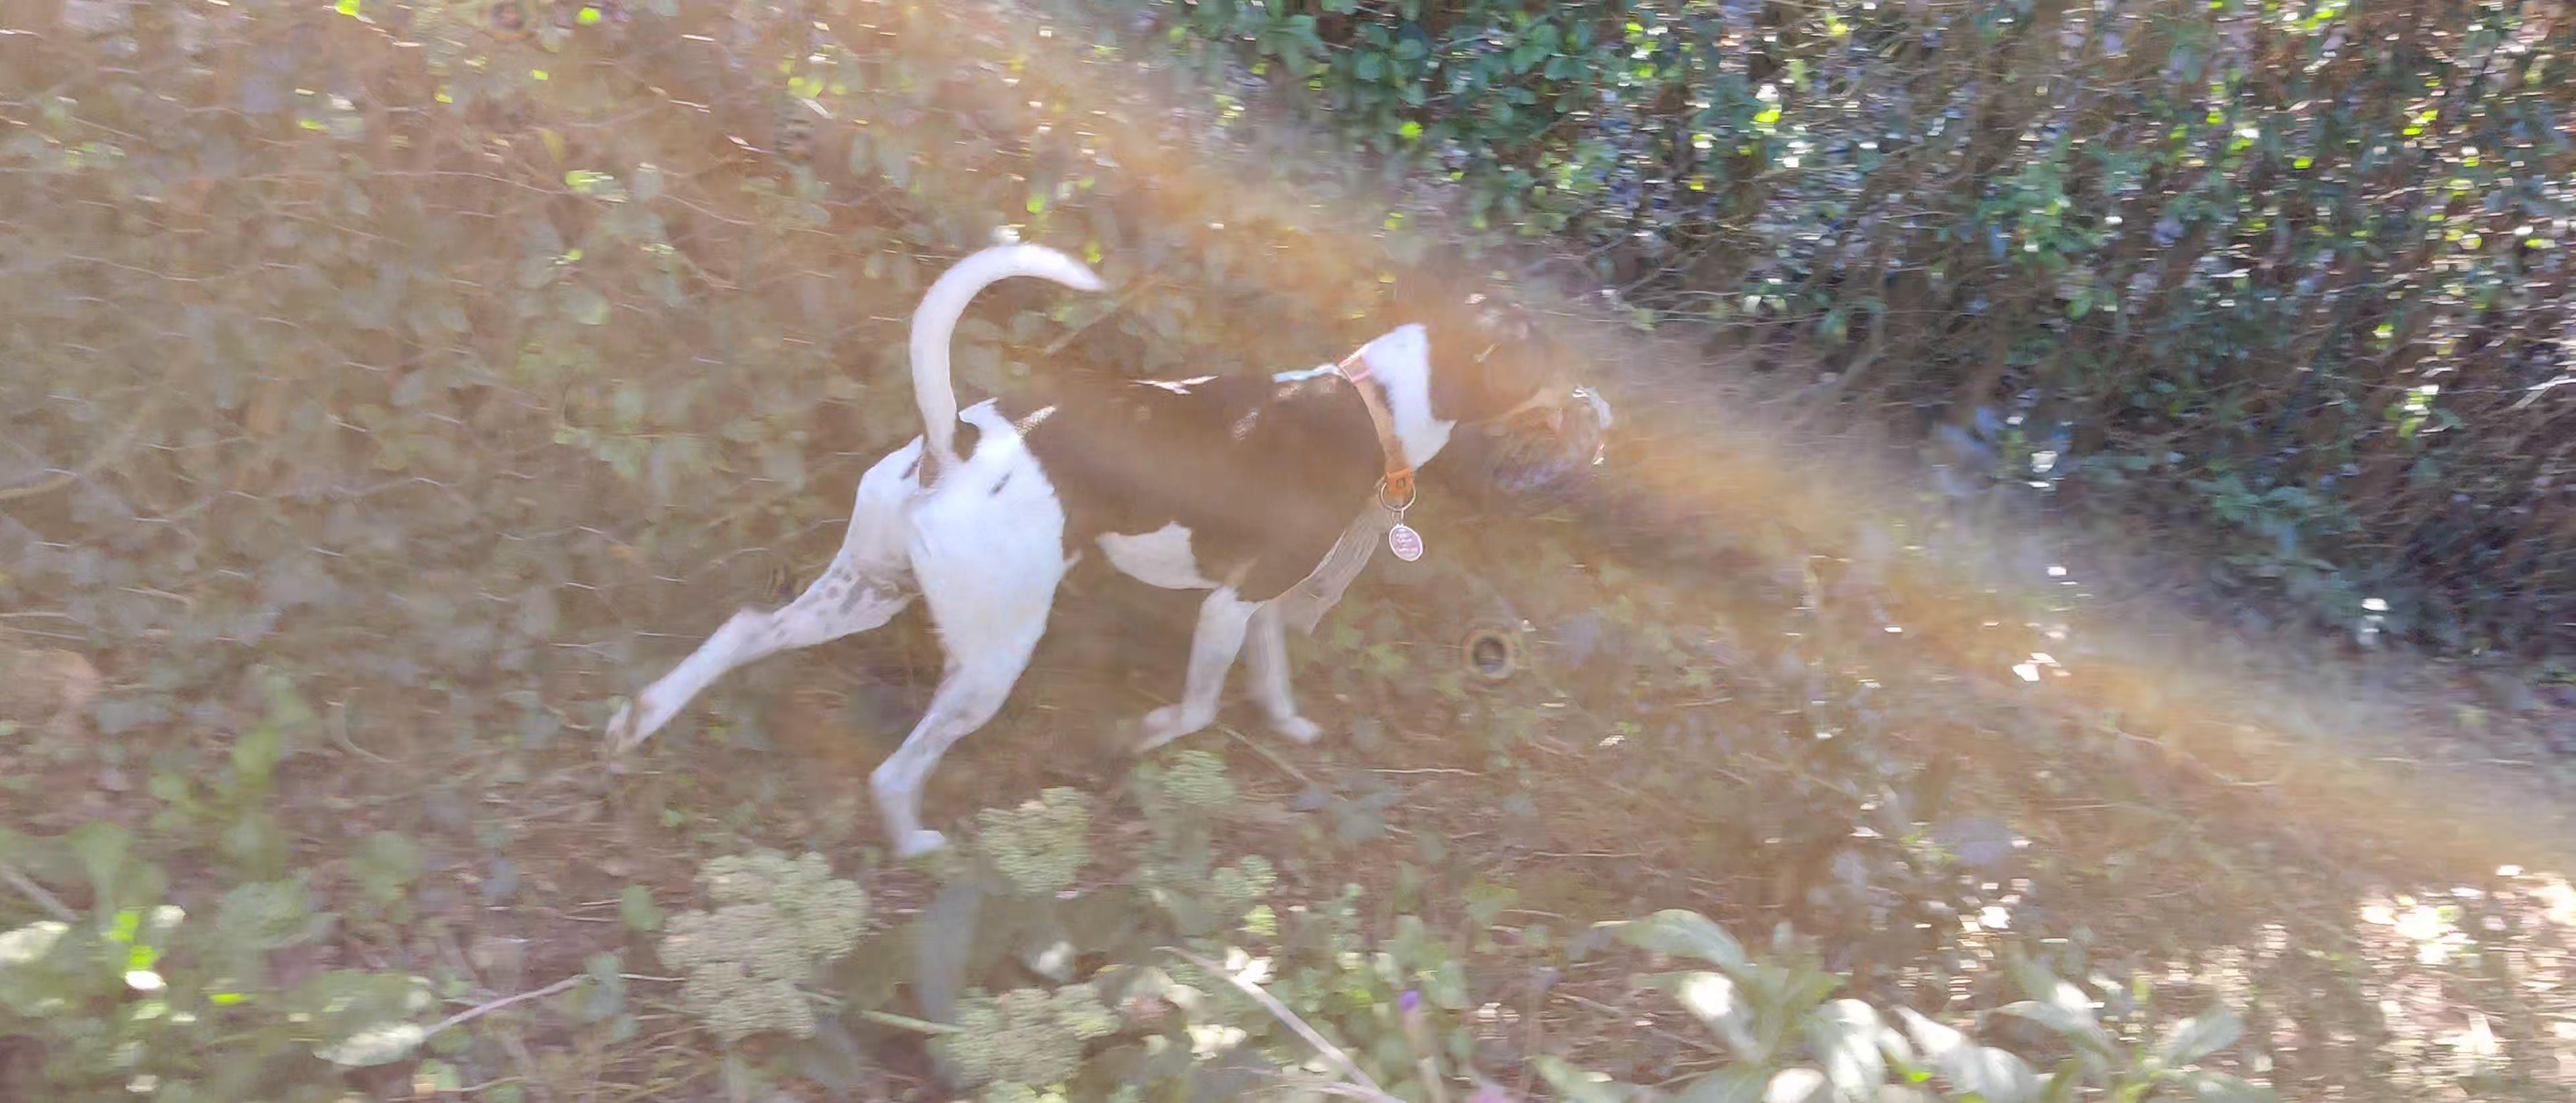Dog: (595, 240, 1580, 868)
